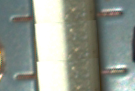border: (8, 13, 36, 25), (98, 66, 130, 76), (96, 8, 125, 19), (12, 72, 37, 82)
